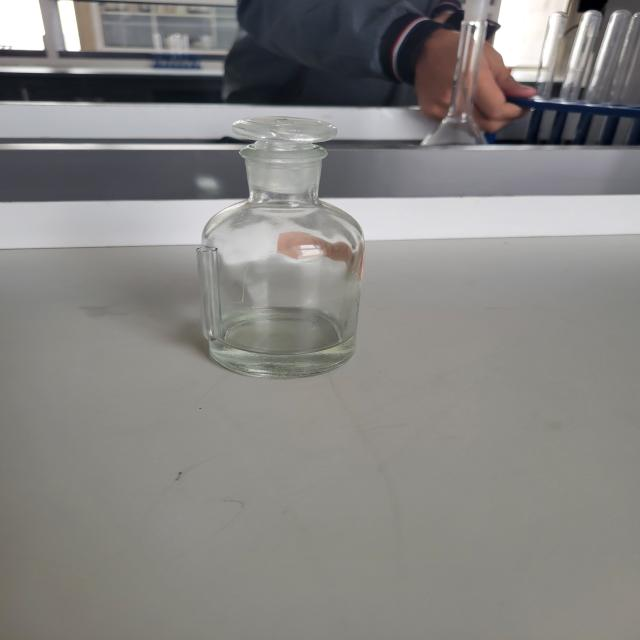Reagent_Bottle: (162, 97, 398, 409)
